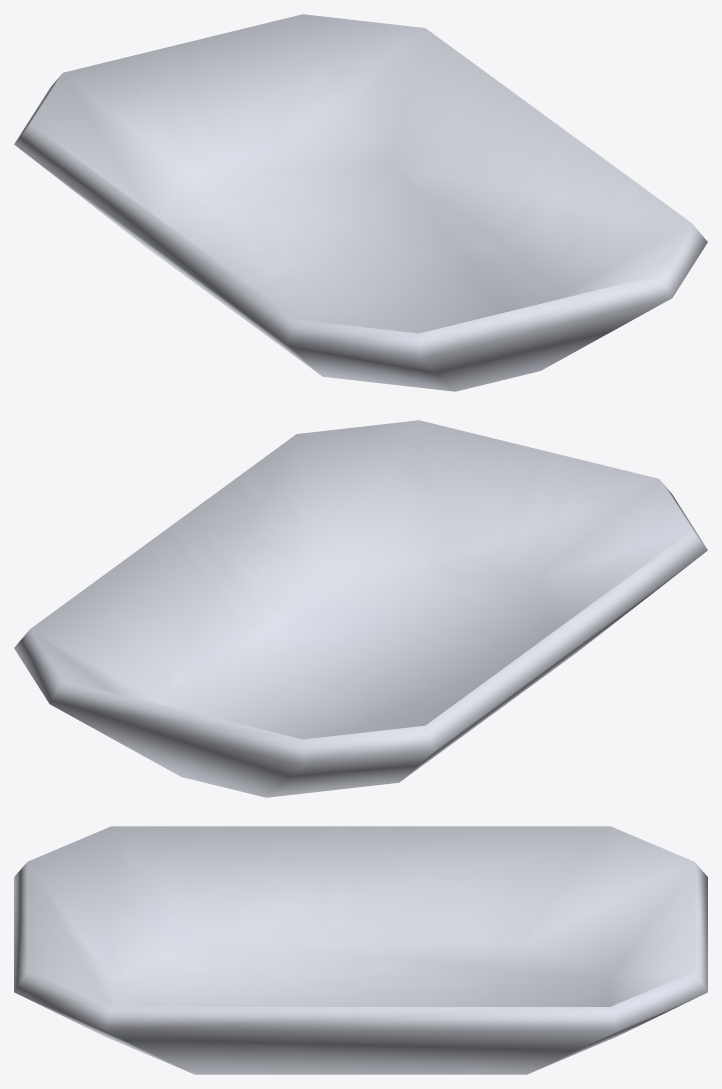
The model's file is Soap_holder-col.glb.
3 renders of one model, top to bottom at view 1: azimuth 30°, elevation 25°; view 2: azimuth 150°, elevation 25°; view 3: azimuth 270°, elevation 25°, orthographic. The views are drawn at different scales.
Visible parts, largest first — view 1: Soap_holder-col; view 2: Soap_holder-col; view 3: Soap_holder-col.
Part boxes in pixels (box(x1,y1,x2,y2)): Soap_holder-col: box(14, 14, 707, 391); Soap_holder-col: box(14, 420, 707, 797); Soap_holder-col: box(14, 826, 707, 1074).
Size of the model in its own units: 0.0907 by 0.0221 by 0.1384.
Materials: 1 (1 with a texture image).
